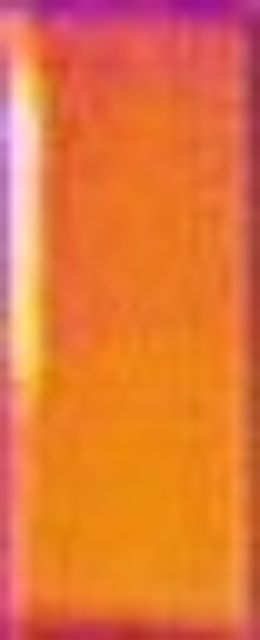Diode: (1, 21, 55, 411)
